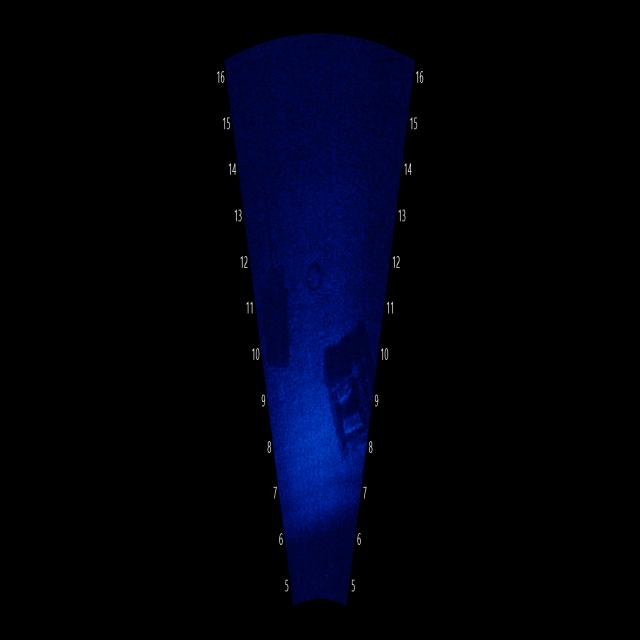square: (318, 312, 383, 457), (257, 254, 302, 388)
